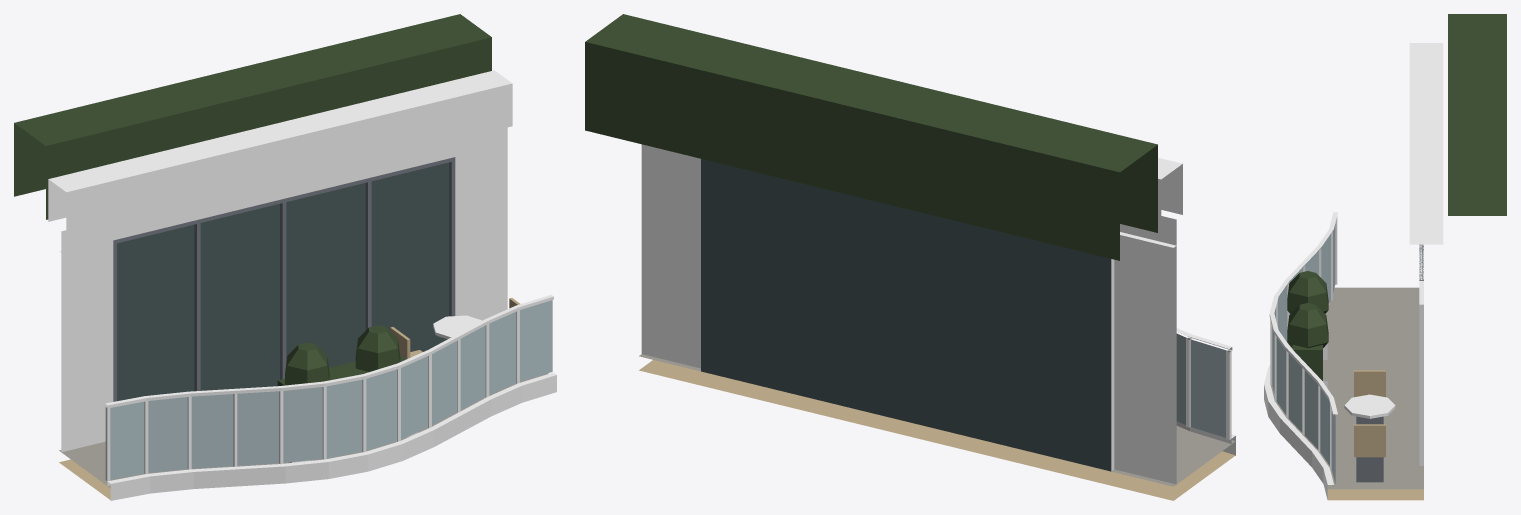
The model's file is top-w1_close.fbx.
3 views of the same model, side by side, from view 1: azimuth 30°, elevation 25°; view 2: azimuth 150°, elevation 25°; view 3: azimuth 270°, elevation 25° (orthographic). The views are drawn at different scales.
Parts seen in each view (by area): view 1: a2019/500/top-w1_close; view 2: a2019/500/top-w1_close; view 3: a2019/500/top-w1_close.
Boxes of the visible parts, x1,y1,x2,y2 form: a2019/500/top-w1_close: (14, 14, 556, 500); a2019/500/top-w1_close: (585, 14, 1235, 500); a2019/500/top-w1_close: (1264, 14, 1506, 500).
Bounding box in the file's own units: 6 × 3.95 × 3.05.
